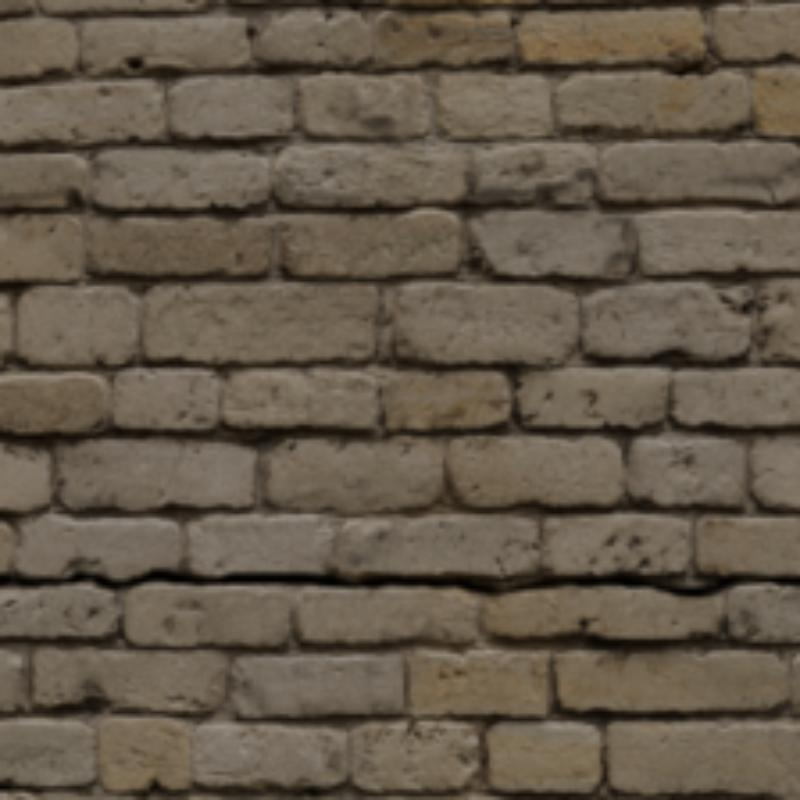crack: (0, 568, 796, 596)
